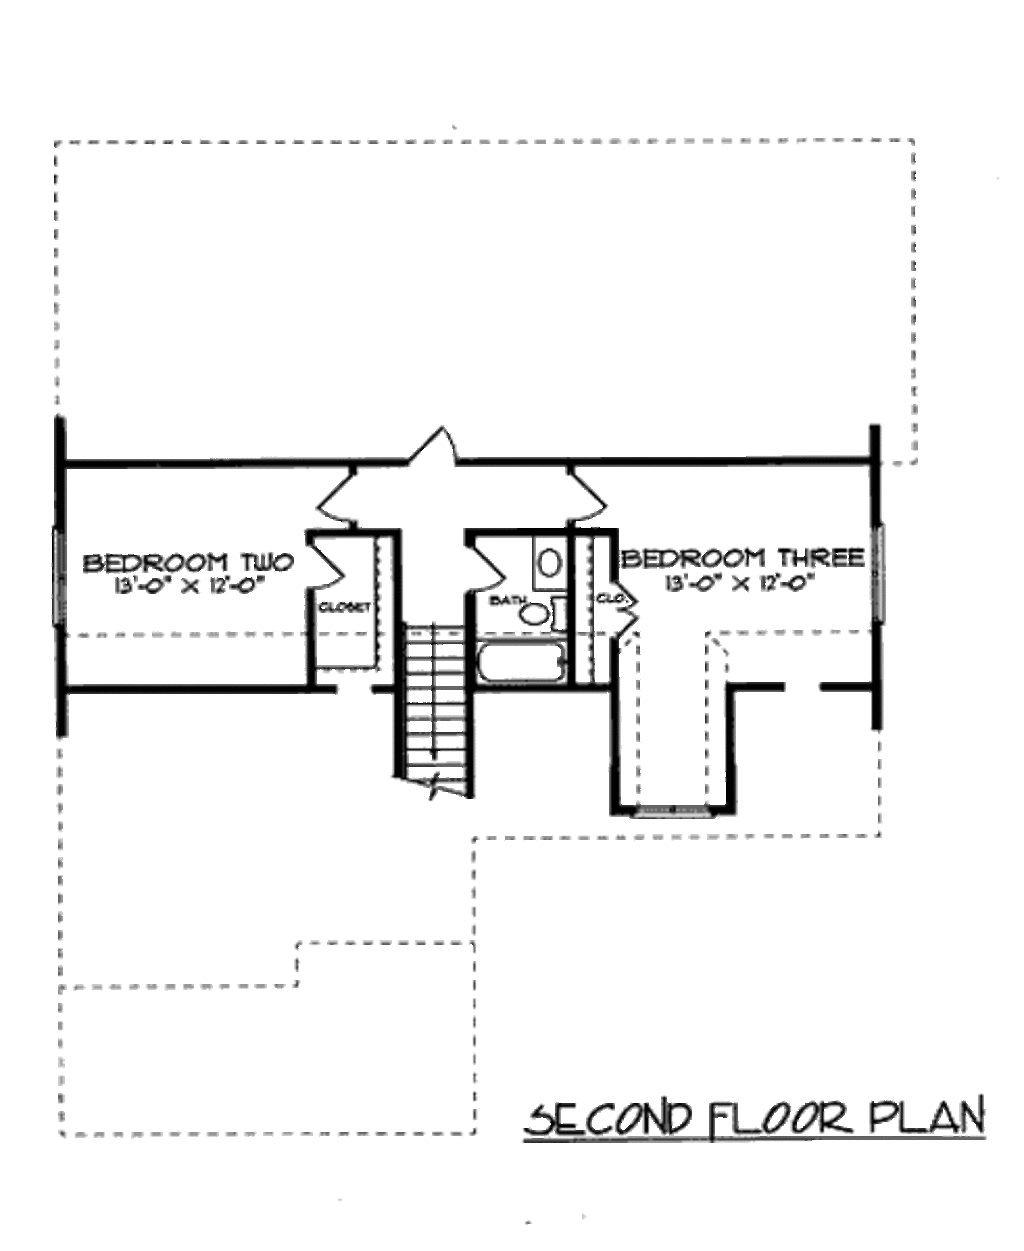door: (556, 467, 631, 528), (456, 536, 522, 605), (309, 465, 368, 525), (599, 569, 641, 651), (291, 544, 355, 596), (399, 425, 460, 467)
large_sink: (495, 596, 566, 638)
small_sink: (516, 532, 564, 592)
stairs: (385, 611, 464, 823)
tub: (462, 625, 576, 696)
window: (845, 511, 902, 625), (616, 792, 730, 825), (48, 520, 65, 627)
